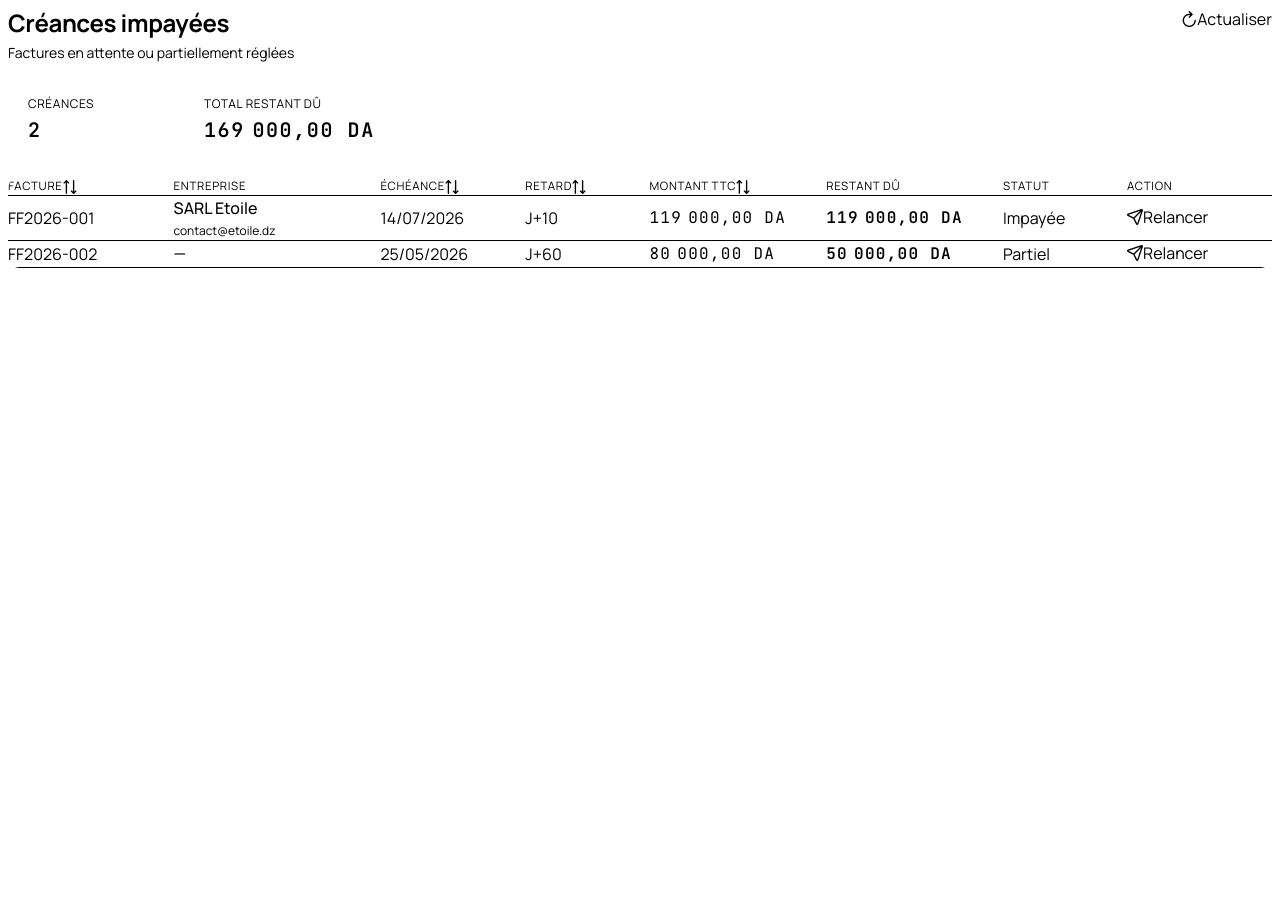
it: CreancesPage — dialog de relance › ouvre le dialog avec le recap de la facture et le niveau 1 par defaut
This screenshot has width=1280, height=900.
Click the button "Relancer" in the row of "FF2026-001" at (1168, 217), box [1127,206,1208,228]
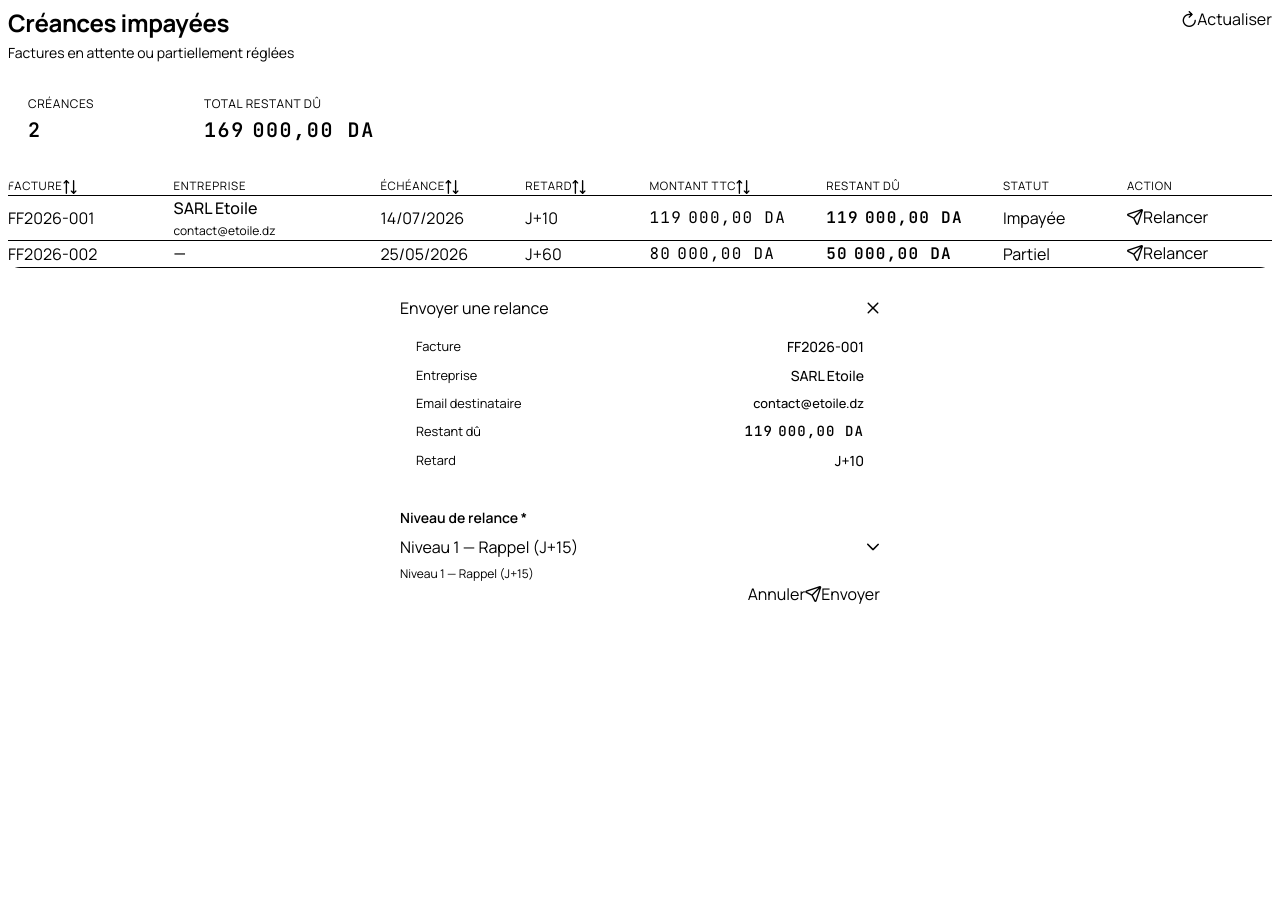
Expected: the text "FF2026-001" is shown, [8,196,174,241]
Result: the text "Envoyer une relance" is shown at [400,296,548,320]
Result: the text "Niveau 1 — Rappel (J+15)" is shown at [400,535,578,557]
